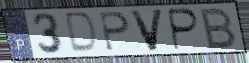3: (31, 12, 65, 56)
B: (200, 7, 239, 51)
D: (65, 11, 99, 55)
P: (168, 8, 202, 52), (98, 11, 131, 53)
V: (128, 8, 166, 53)
